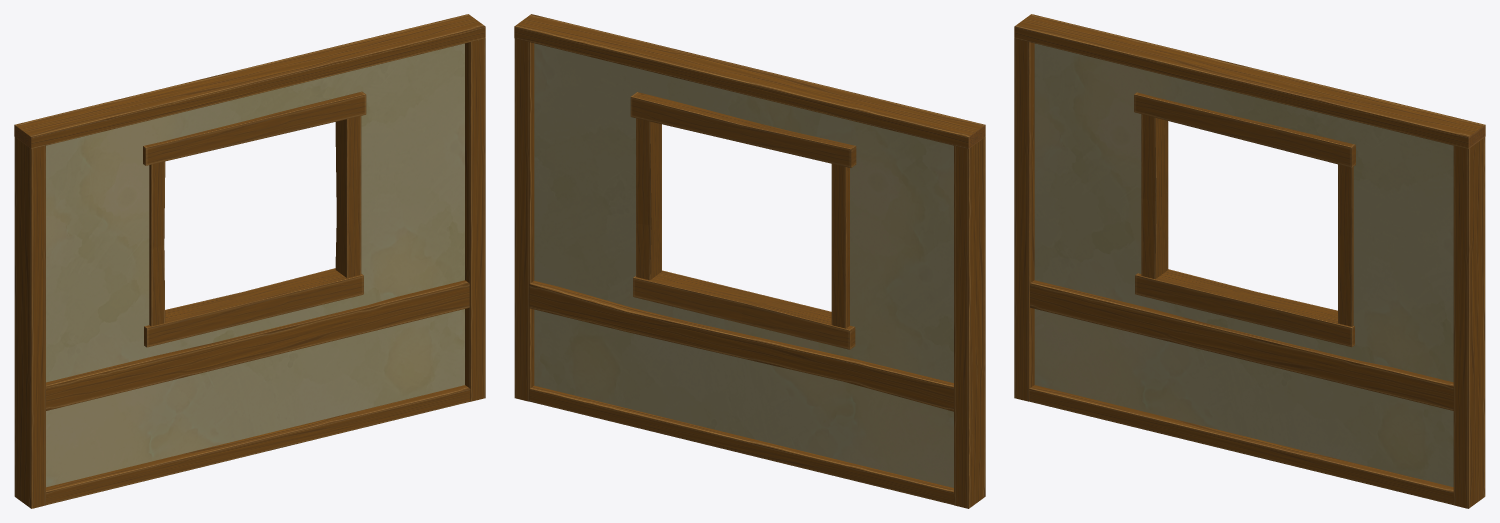
Rendered from SM_House_Wall_5x4_Interior_Window_B_01.fbx.
3 views of the same model, side by side, from view 1: azimuth 30°, elevation 25°; view 2: azimuth 150°, elevation 25°; view 3: azimuth 330°, elevation 25° (orthographic).
Parts seen in each view (by area): view 1: SM_House_Wall_5x4_Interior_Window_B_01; view 2: SM_House_Wall_5x4_Interior_Window_B_01; view 3: SM_House_Wall_5x4_Interior_Window_B_01.
Boxes of the visible parts, x1,y1,x2,y2 form: SM_House_Wall_5x4_Interior_Window_B_01: (14, 14, 485, 508); SM_House_Wall_5x4_Interior_Window_B_01: (514, 14, 985, 508); SM_House_Wall_5x4_Interior_Window_B_01: (1014, 14, 1485, 508).
Size of the model in its own units: 5 by 3.91 by 0.3587.
